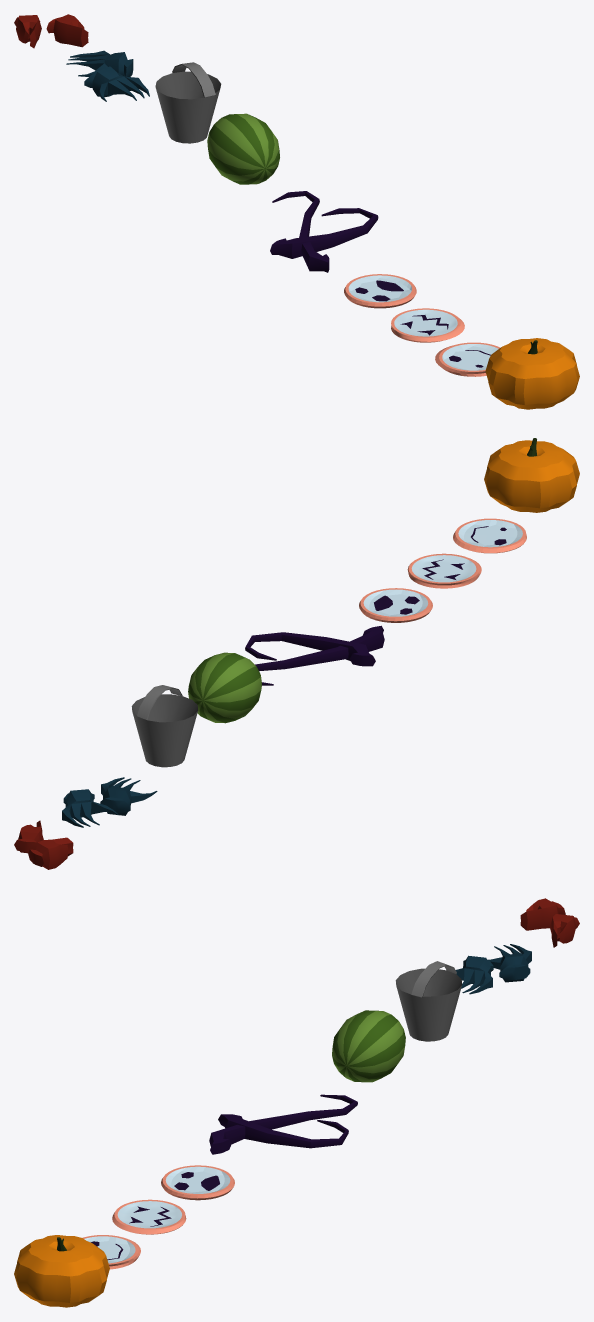
File: separateScarecrowCrowIsland.fbx
3 renders of one model, top to bottom at view 1: azimuth 30°, elevation 25°; view 2: azimuth 150°, elevation 25°; view 3: azimuth 330°, elevation 25°, orthographic.
Visible parts, largest first — view 1: scarecrowHead_1.001, scarecrowHead_3.001, scarecrowHead_2.001, scarecrowHand_3.001, scarecrowHand_1.001, scarecrowFace_1.001, scarecrowFace_2.001, scarecrowHand_2.001, scarecrowFace_3.001; view 2: scarecrowHead_1.001, scarecrowHead_3.001, scarecrowHead_2.001, scarecrowHand_3.001, scarecrowHand_1.001, scarecrowFace_3.001, scarecrowFace_1.001, scarecrowFace_2.001, scarecrowHand_2.001; view 3: scarecrowHead_1.001, scarecrowHead_3.001, scarecrowHead_2.001, scarecrowHand_3.001, scarecrowHand_1.001, scarecrowFace_1.001, scarecrowFace_2.001, scarecrowHand_2.001, scarecrowFace_3.001.
Part boxes in pixels (x1,y1,x2,y2): scarecrowHead_1.001: (485,338,579,409); scarecrowHead_3.001: (207,113,279,184); scarecrowHead_2.001: (155,62,221,143); scarecrowHand_3.001: (270,191,378,272); scarecrowHand_1.001: (66,50,149,101); scarecrowFace_1.001: (391,308,464,342); scarecrowFace_2.001: (344,274,416,308); scarecrowHand_2.001: (14,14,88,48); scarecrowFace_3.001: (435,342,499,376); scarecrowHead_1.001: (484,438,579,512); scarecrowHead_3.001: (188,652,261,723); scarecrowHead_2.001: (131,685,198,767); scarecrowHand_3.001: (245,625,384,685); scarecrowHand_1.001: (62,777,157,827); scarecrowFace_3.001: (453,518,526,553); scarecrowFace_1.001: (407,553,481,588); scarecrowFace_2.001: (359,588,432,622); scarecrowHand_2.001: (14,820,73,869); scarecrowHead_1.001: (14,1235,109,1307); scarecrowHead_3.001: (332,1010,405,1082); scarecrowHead_2.001: (395,961,462,1041); scarecrowHand_3.001: (209,1094,357,1154); scarecrowHand_1.001: (455,944,531,994); scarecrowFace_1.001: (112,1199,186,1234); scarecrowFace_2.001: (161,1165,234,1200); scarecrowHand_2.001: (520,898,579,947); scarecrowFace_3.001: (82,1235,140,1269).
Size of the model in its own units: 438 by 255 by 3431.
